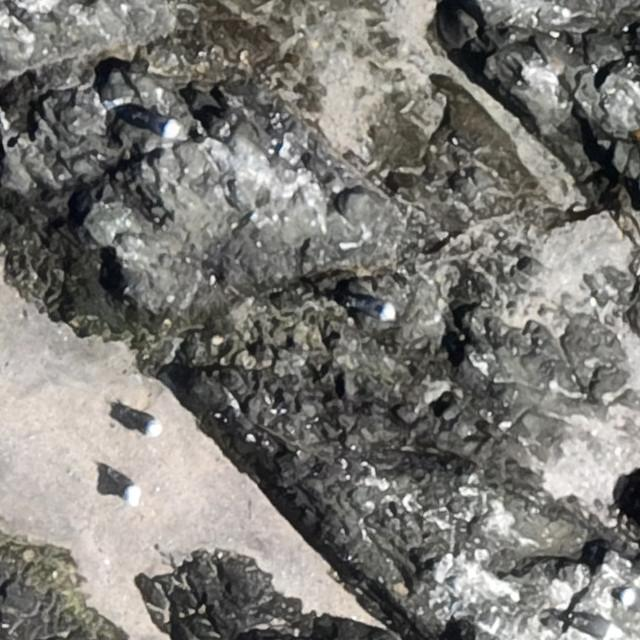umineko: (113, 402, 165, 438), (105, 469, 145, 509), (354, 298, 396, 320), (137, 116, 179, 136), (576, 618, 618, 638)
